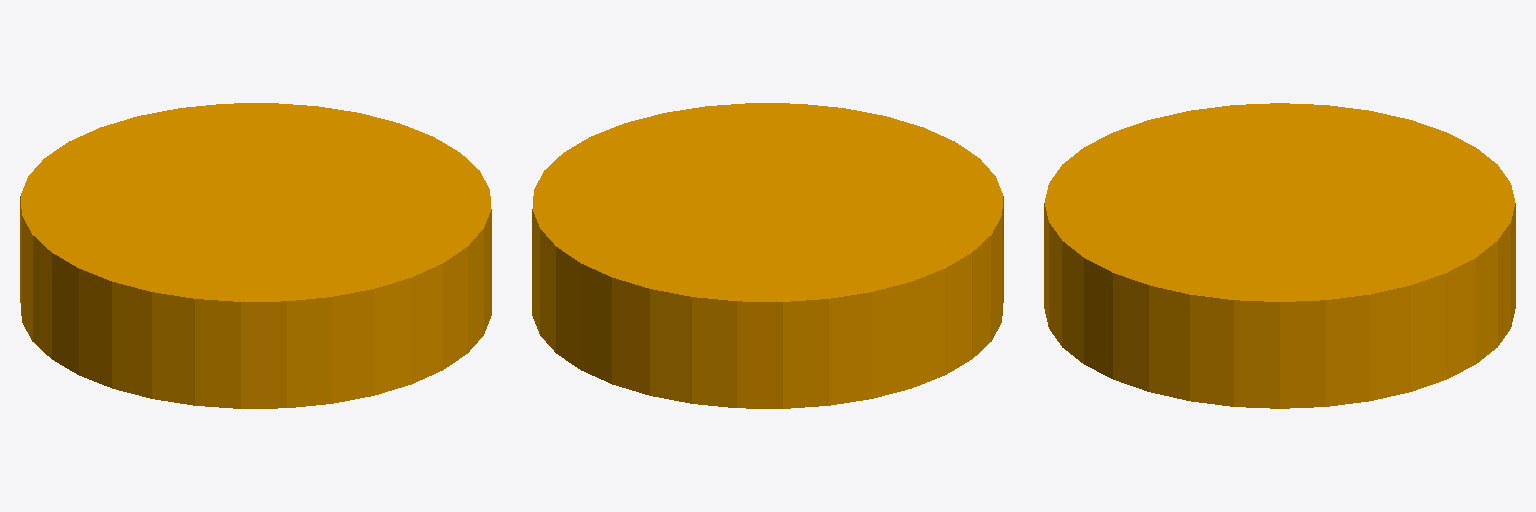
URDF robot description (backwheel2):
<?xml version="1.0"?>
<robot name="backwheel2">
<link name="base_link_wheel3">
<inertial>
        	 <origin xyz="0 0 0" rpy="0 0 0"/>
        	 <mass value="1"/>
        	 <inertia ixx="0.01"  ixy="0"  ixz="0.01" iyy="0" iyz="0" izz="0.01" />
       </inertial>
<visual>
<geometry>
<cylinder length="0.005" radius="0.01"/>
</geometry>
</visual>
</link>
</robot>

--- Facts derived from the render (not from the file) ---
The picture shows the robot from 3 angles, left to right: view 1: azimuth 30°, elevation 25°; view 2: azimuth 150°, elevation 25°; view 3: azimuth 270°, elevation 25°; orthographic projection.
Model backwheel2 with 1 links and 0 joints (none), rooted at base_link_wheel3, posed all joints at 0.
Visible links, largest first — view 1: base_link_wheel3; view 2: base_link_wheel3; view 3: base_link_wheel3.
Link boxes in pixels (box(x1,y1,x2,y2)): base_link_wheel3: box(20, 103, 491, 408); base_link_wheel3: box(532, 103, 1003, 408); base_link_wheel3: box(1044, 103, 1515, 408).
Size in the robot's own frame: 0.02 by 0.02 by 0.005 metres.
Geometry: primitives only (box / cylinder / sphere), no mesh files.
